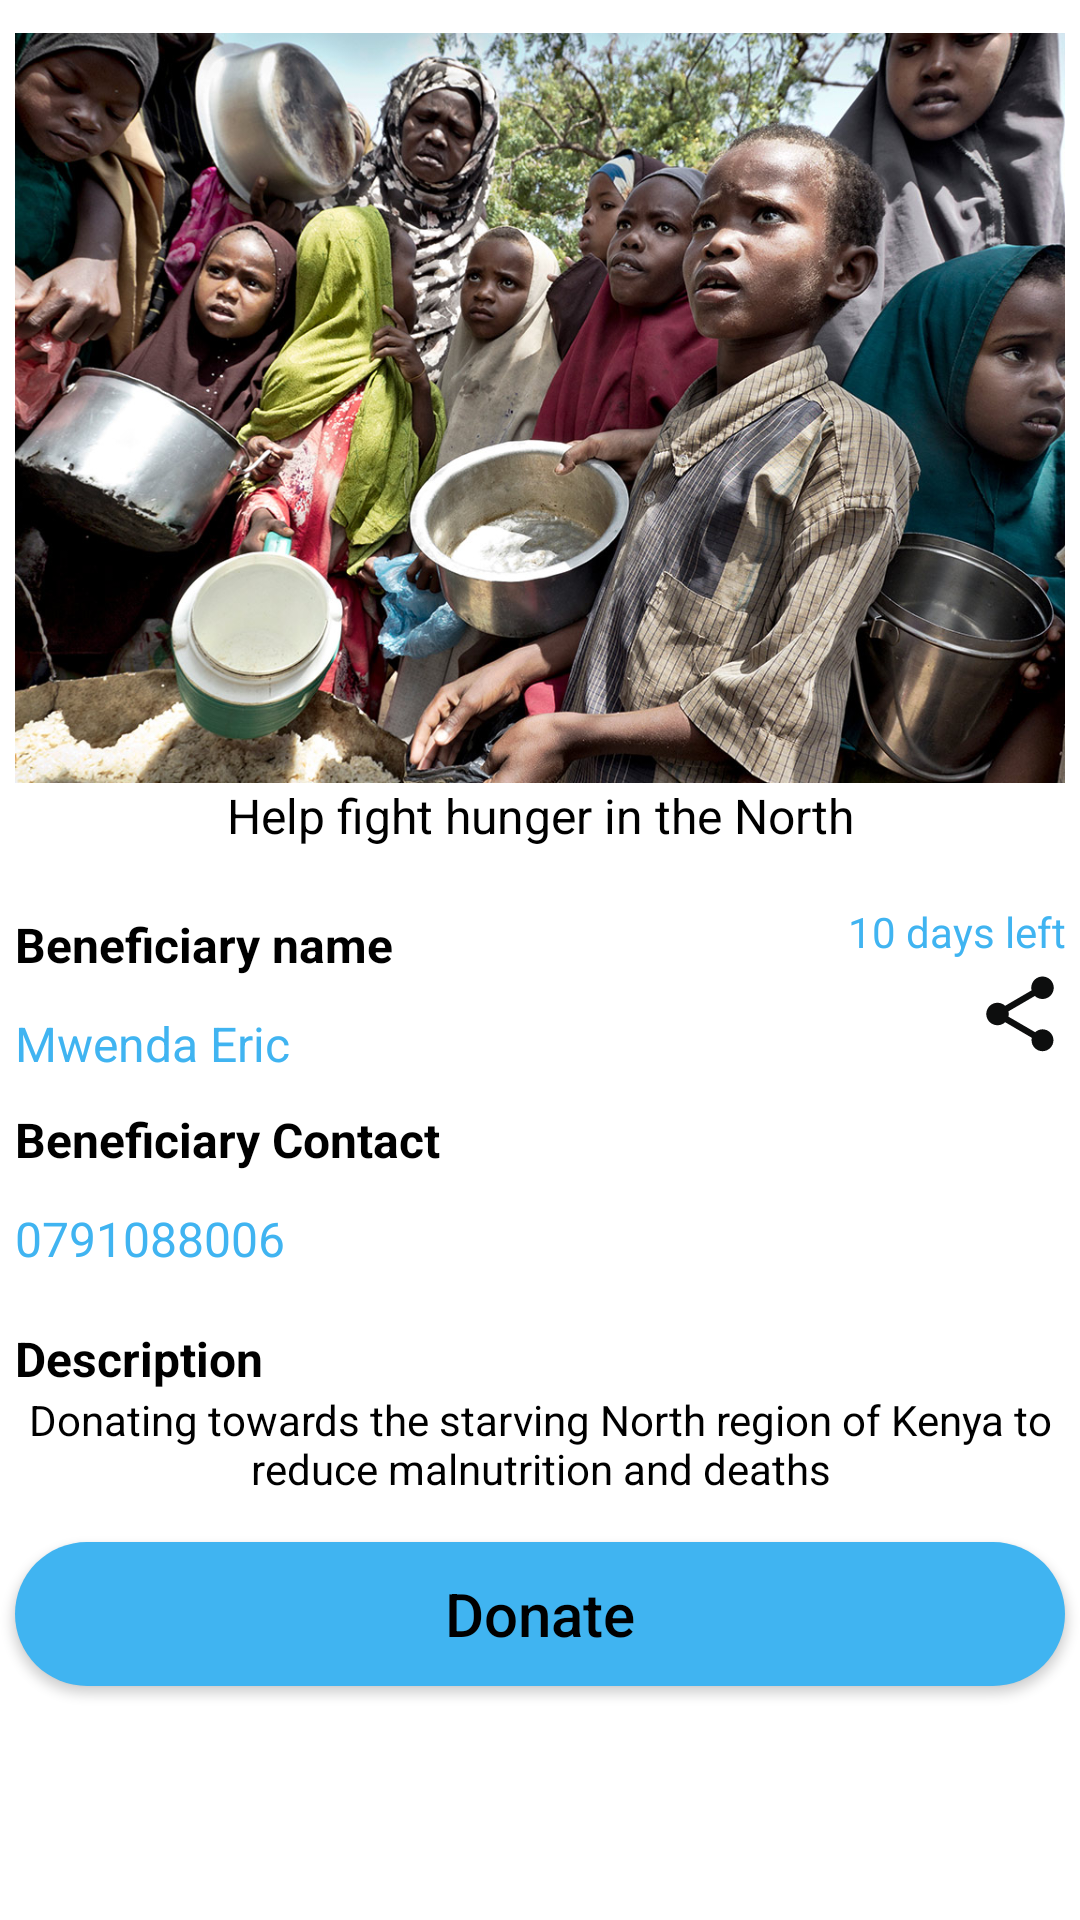

Icon click points for this 1080px×1920px phone screenshot, format (x,y):
share: (1020,1014)
